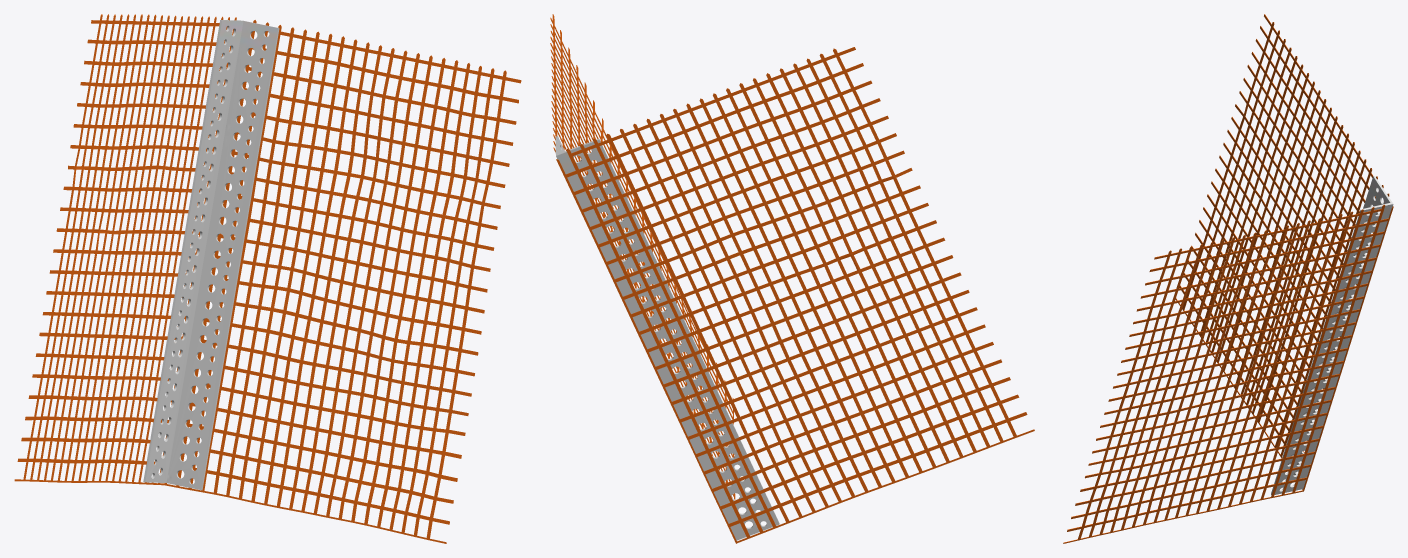
The model's file is filebake.glb.
The picture shows the model from 3 angles, left to right: view 1: azimuth 30°, elevation 25°; view 2: azimuth 150°, elevation 25°; view 3: azimuth 270°, elevation 25°; orthographic projection. The views are drawn at different scales.
Visible parts, largest first — view 1: filelikose.004; view 2: filelikose.004; view 3: filelikose.004.
Part boxes in pixels (x1,y1,x2,y2): filelikose.004: (14, 14, 521, 543); filelikose.004: (550, 14, 1034, 543); filelikose.004: (1063, 14, 1393, 543).
Size of the model in its own units: 1.53 by 1.49 by 1.02.
2 materials, 1 textured.
